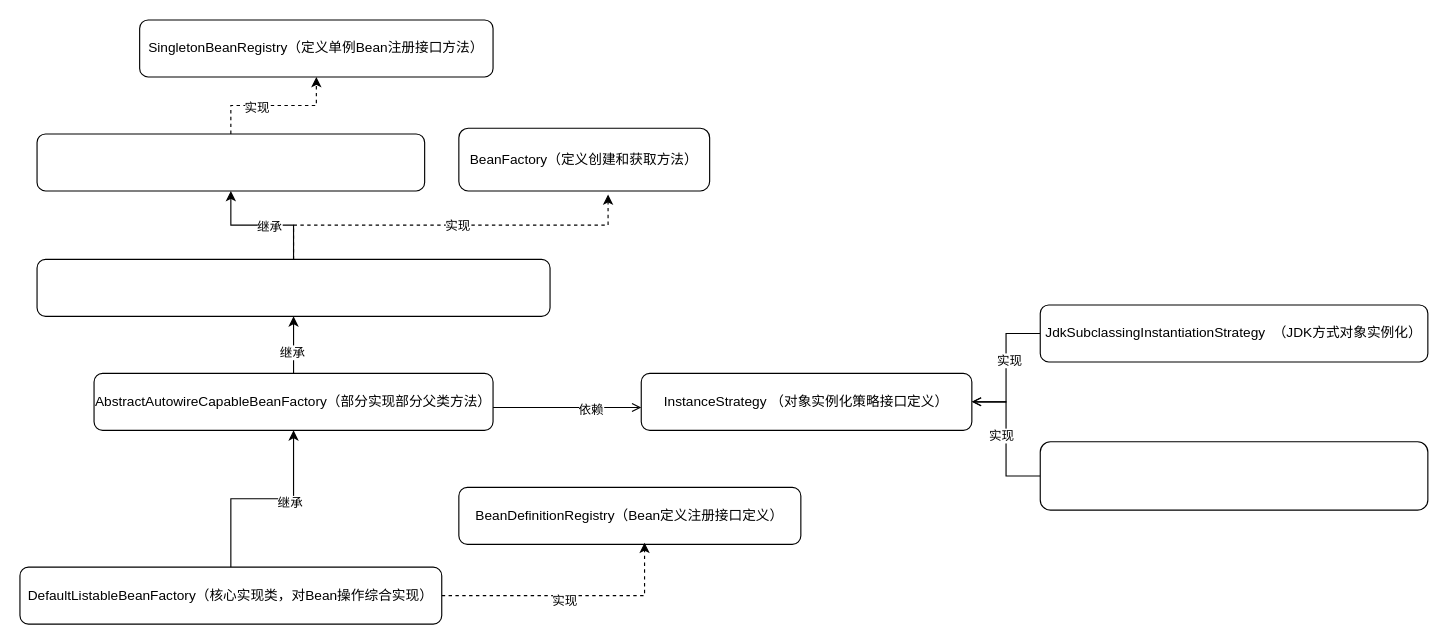
Some shapes in this 1448 by 644 pixel diagram are drawn without their labels. Each missing label, with the centre of its shape:
AbstractBeanFactory（抽象定义获取Bean过程，创建，实例化等模版方法）: [293,287]
CglibSubclassingInstanceStrategy （Cglib方式对象实例化）: [1233,475]
DefaultSingletonBeanRegistry（实现单例Bean注册接口方法）: [230,162]
